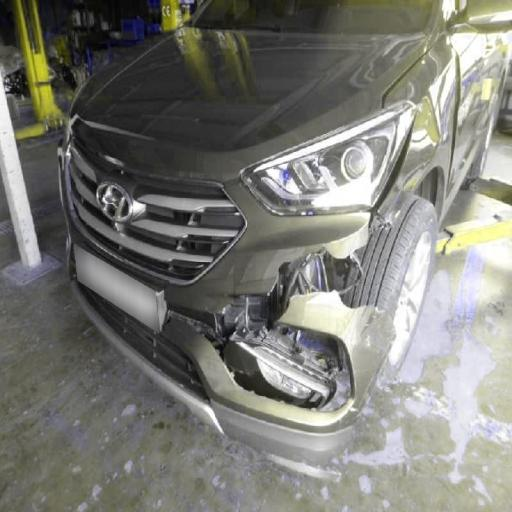broken: (196, 222, 378, 435), (62, 91, 199, 197)
scratch: (384, 85, 458, 156)
